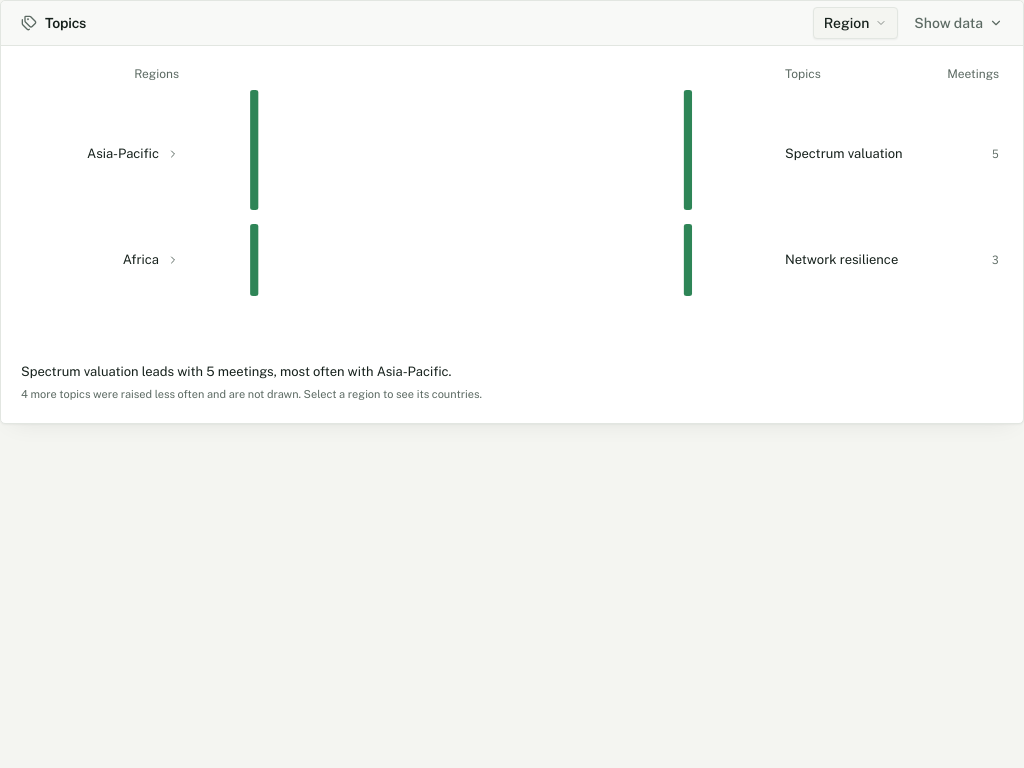
Test: TopicsFigure › carries the drill into the numbers behind the chart
Click the button "Asia-Pacific" at (108, 154), box [21,90,195,217]
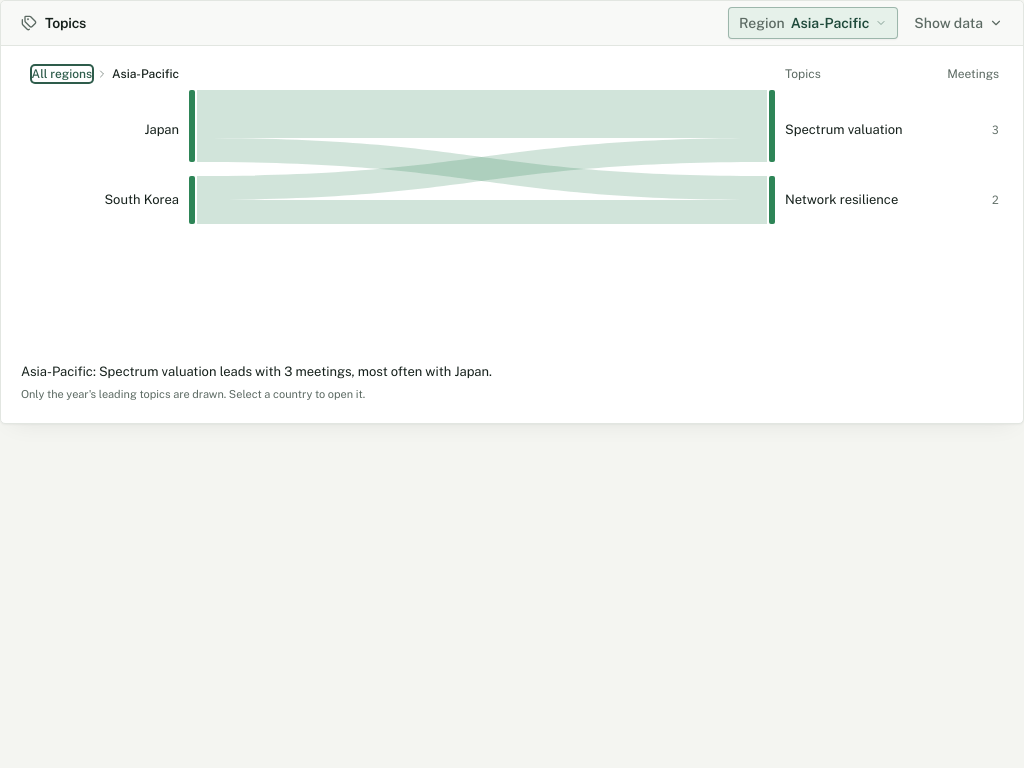
Click the button "Show data" at (959, 23), box [904,7,1013,39]
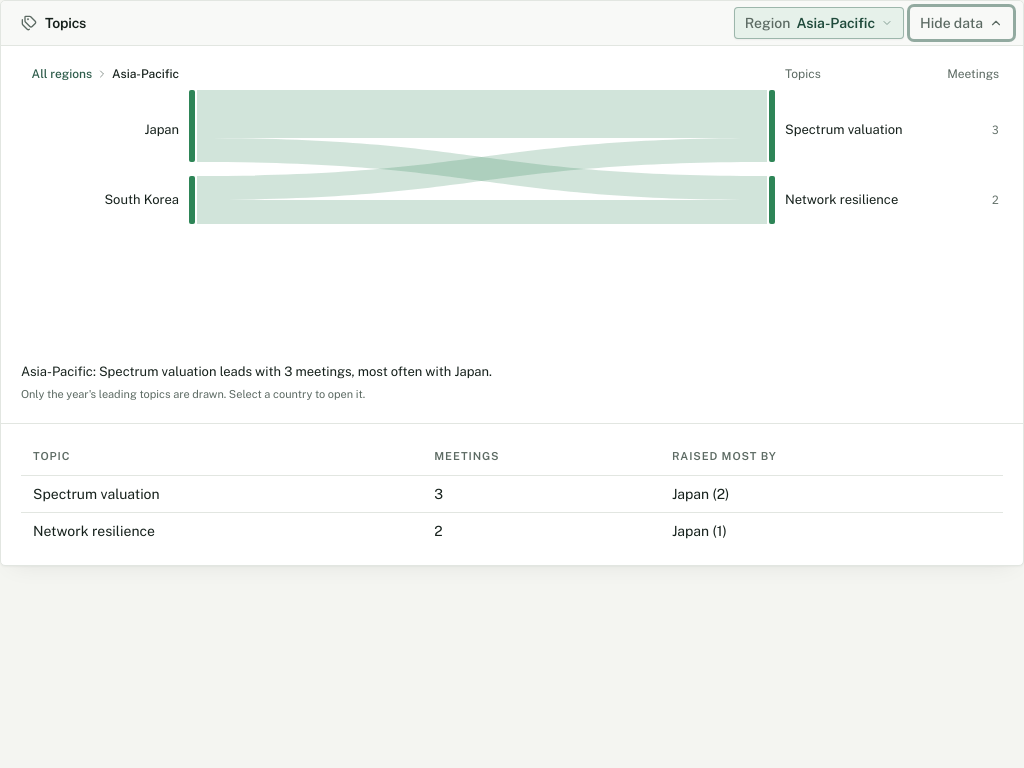
Expected: the row "Spectrum valuation 3 Japan (2)" is shown, [21,476,1003,512]
